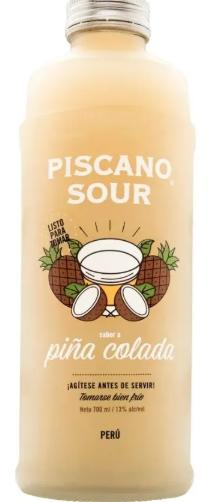brand: (47, 145, 181, 213)
product_name: (45, 337, 177, 365)
